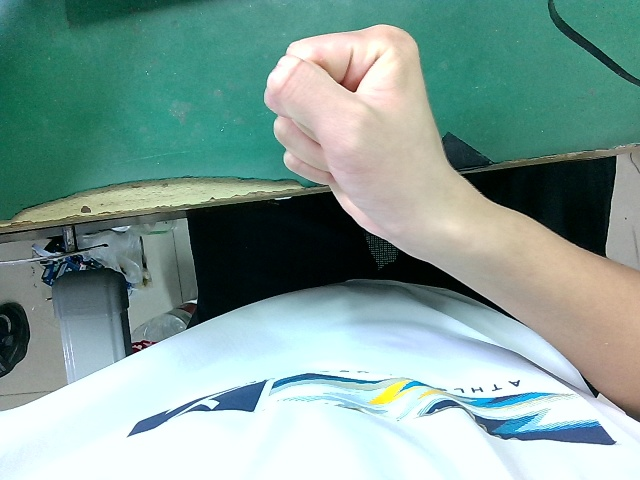stone: (258, 19, 463, 276)
